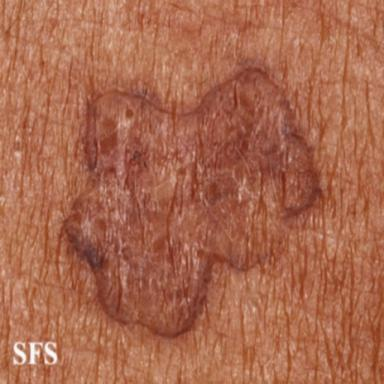Porokeratosis: (65, 69, 320, 336)
